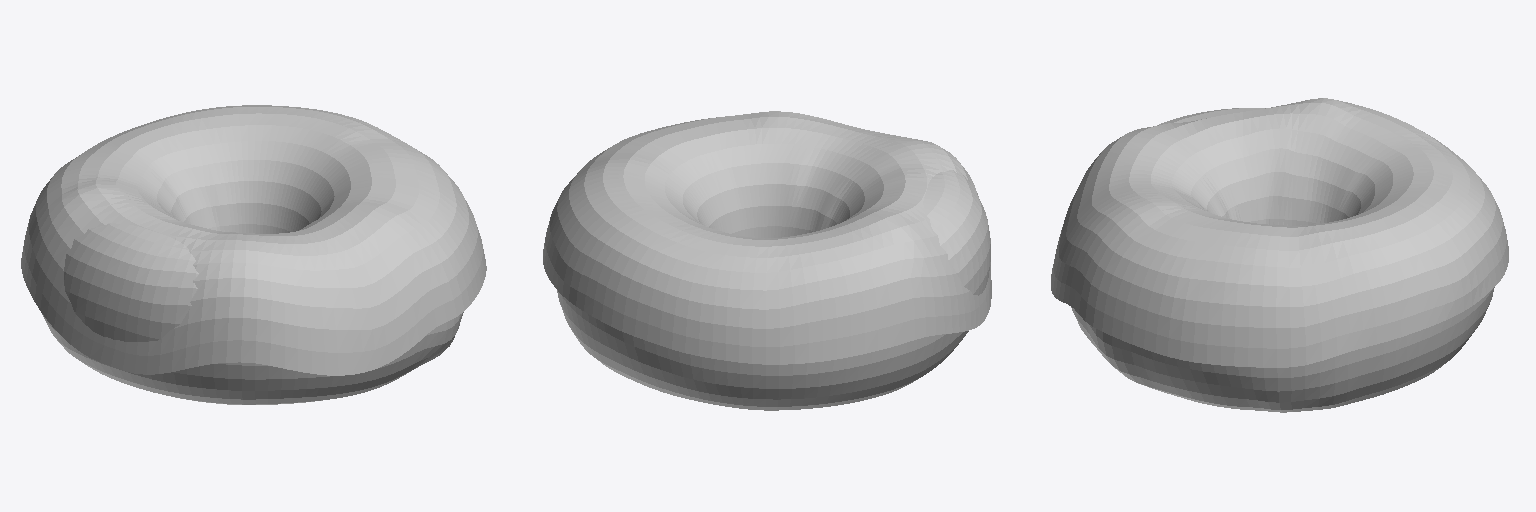
Rendered from fucked donut x2.obj.
3 views of the same model, side by side, from view 1: azimuth 30°, elevation 25°; view 2: azimuth 150°, elevation 25°; view 3: azimuth 270°, elevation 25° (orthographic).
Visible parts, largest first — view 1: icing, Torus; view 2: icing, Torus; view 3: icing, Torus.
Boxes of the visible parts, box(x1,y1,x2,y2) form: icing: box(21, 105, 486, 375); Torus: box(42, 223, 463, 404); icing: box(543, 111, 991, 364); Torus: box(557, 170, 990, 410); icing: box(1051, 98, 1508, 367); Torus: box(1071, 108, 1494, 412).
Bounding box in the file's own units: 3.06 × 1.26 × 3.03.